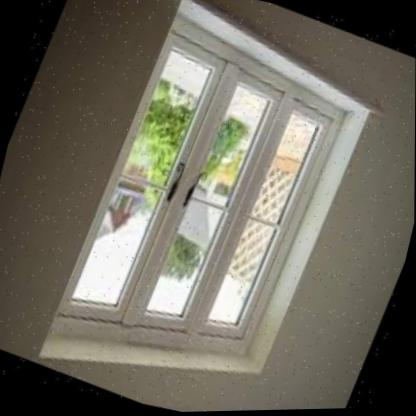Window: (38, 0, 369, 415)
